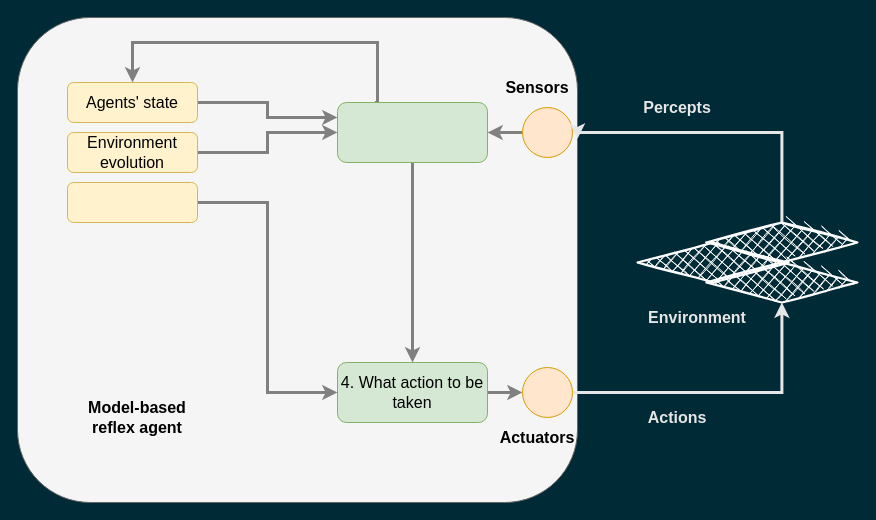
This 876x520 diagram has some shape labels left out. Here are the shapes that lost their labels. From the top down, the centre of each, then its label:
At pixel 412 132: "1. Current state of the environment".
At pixel 132 202: "Effect of agents' actions".
